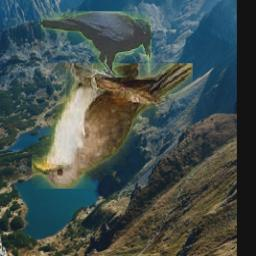Crow: (42, 12, 152, 79)
Cuckoo: (32, 64, 193, 190)
